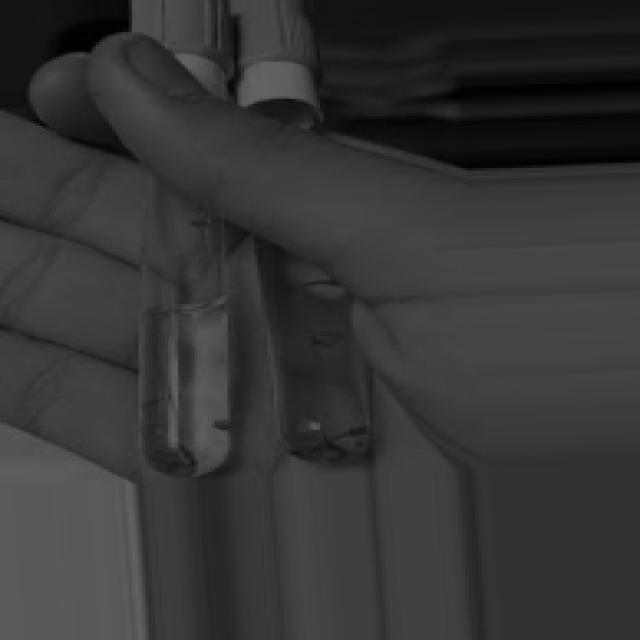larvas: (322, 438, 350, 461), (176, 444, 196, 472), (310, 330, 342, 346), (335, 424, 371, 438)
